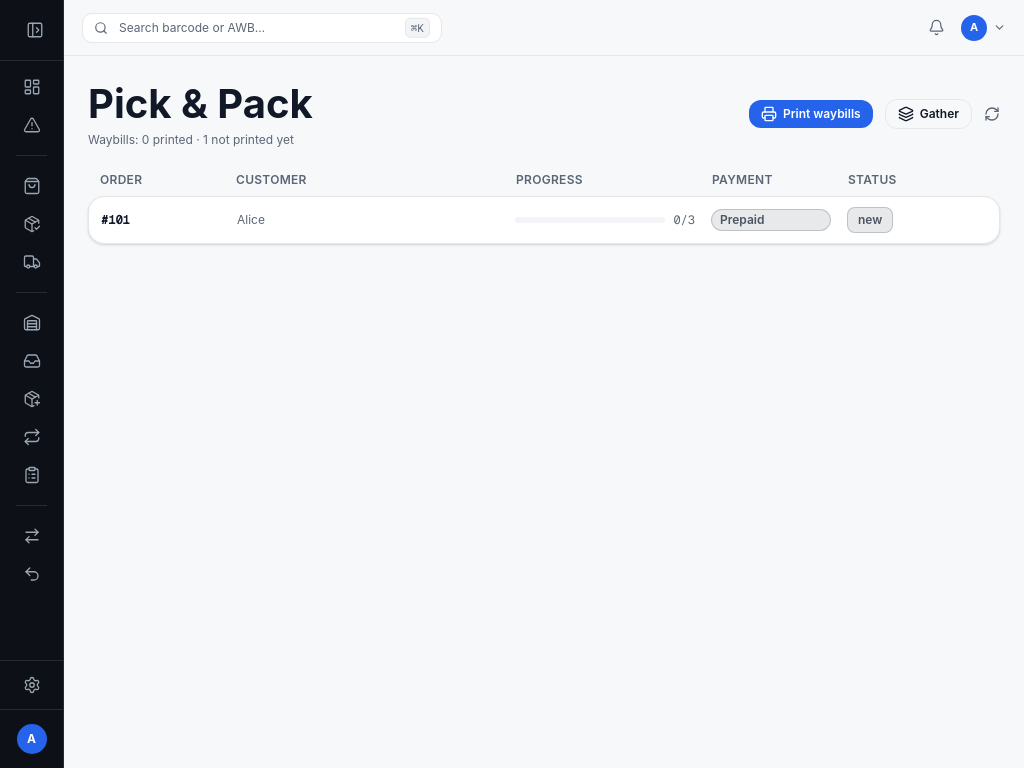
it: pack screen — queue mode › chips under the right line: the still-needed quantity split across places
Click the text "#101" at (115, 220), box [101,212,130,228]
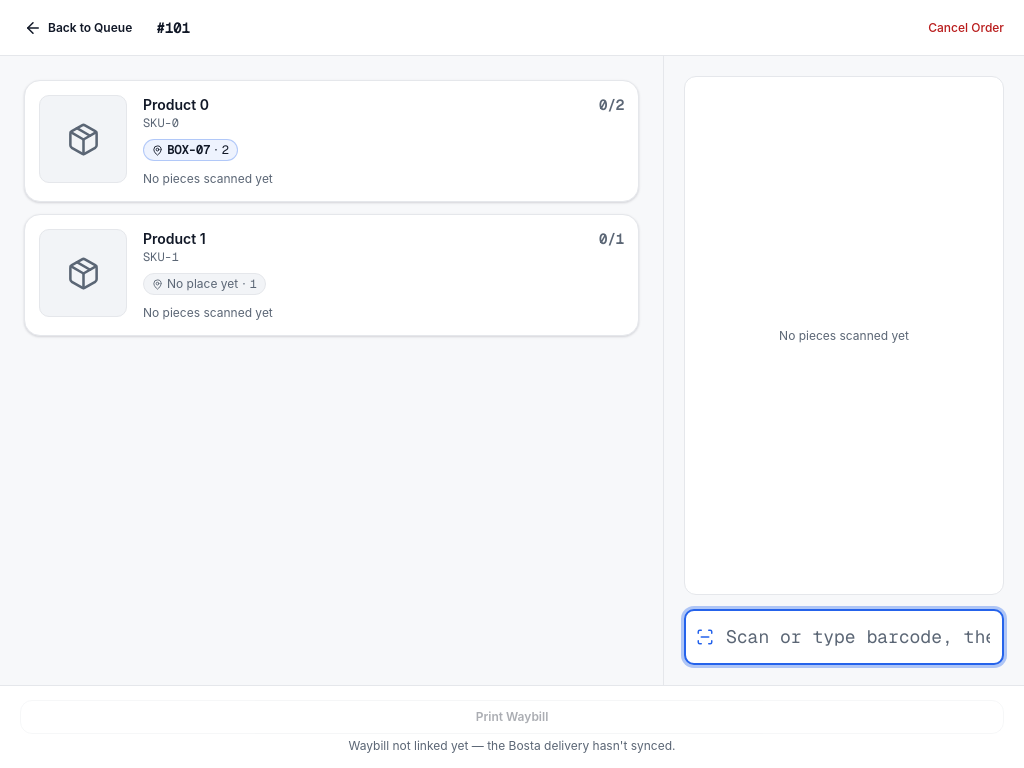
Check: the element with test id "fulfill-pick" is shown
Check: the elements with test id "place-chip" read "BOX-07·2", in this order, box [143,139,238,161]
Check: the elements with test id "place-chip" read "No place yet·1", in this order, box [143,273,266,295]
